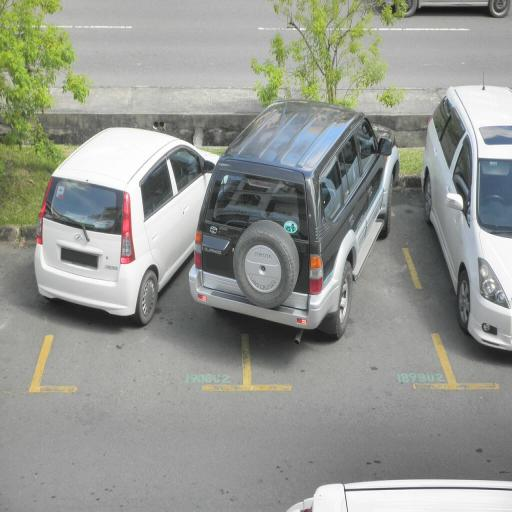Illegal-parking: (22, 21, 208, 402), (221, 29, 408, 401)
